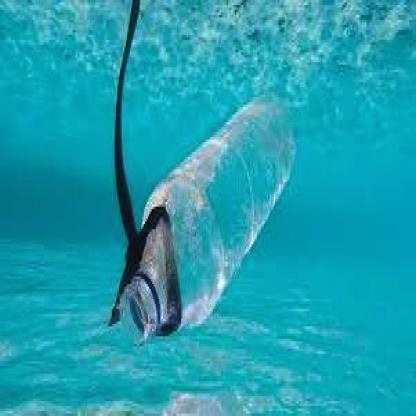pbottle: (102, 57, 303, 354)
